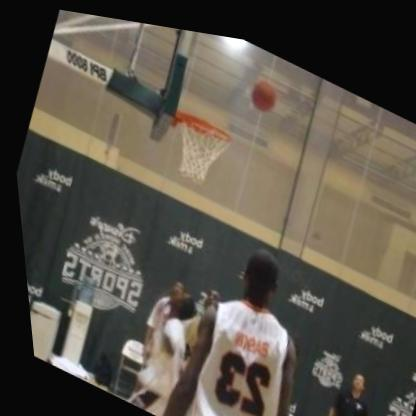basketball: (237, 58, 287, 117)
